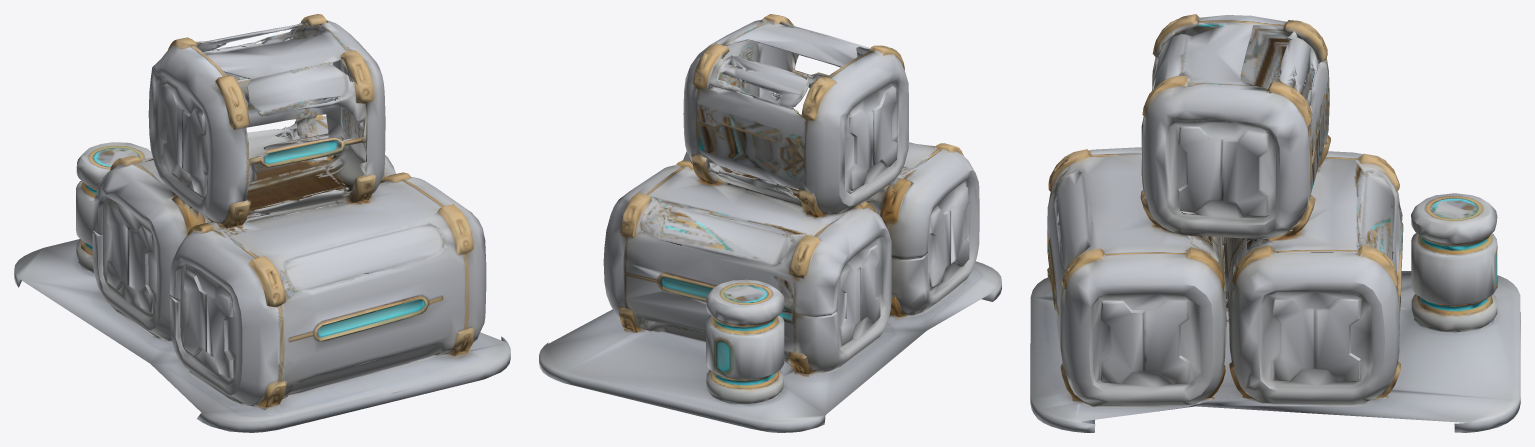
3 renders of one model, left to right at view 1: azimuth 30°, elevation 25°; view 2: azimuth 150°, elevation 25°; view 3: azimuth 270°, elevation 25°, orthographic. The views are drawn at different scales.
Parts seen in each view (by area): view 1: repaired; view 2: repaired; view 3: repaired.
Part boxes in pixels (x1,y1,x2,y2): repaired: (14, 14, 510, 432); repaired: (539, 14, 1001, 432); repaired: (1030, 14, 1520, 432).
Bounding box in the file's own units: 0.7444 × 0.6766 × 0.9995.
1 material, 1 textured.
